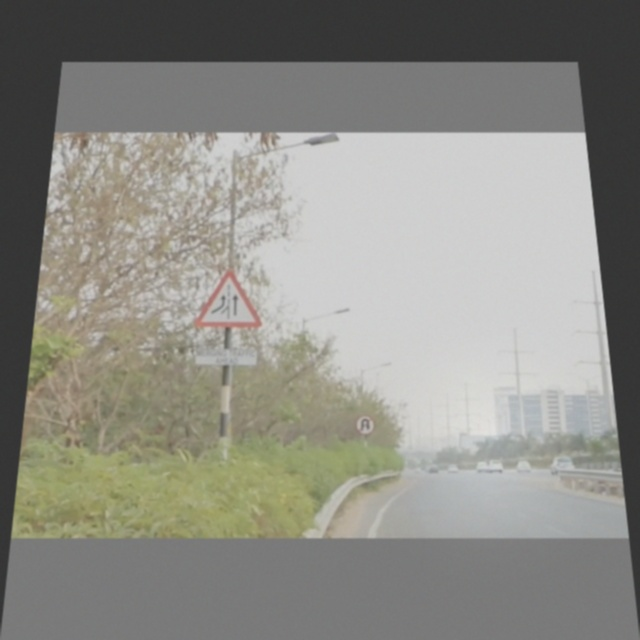Merge_Traffic_Ahead: (189, 260, 266, 331)
